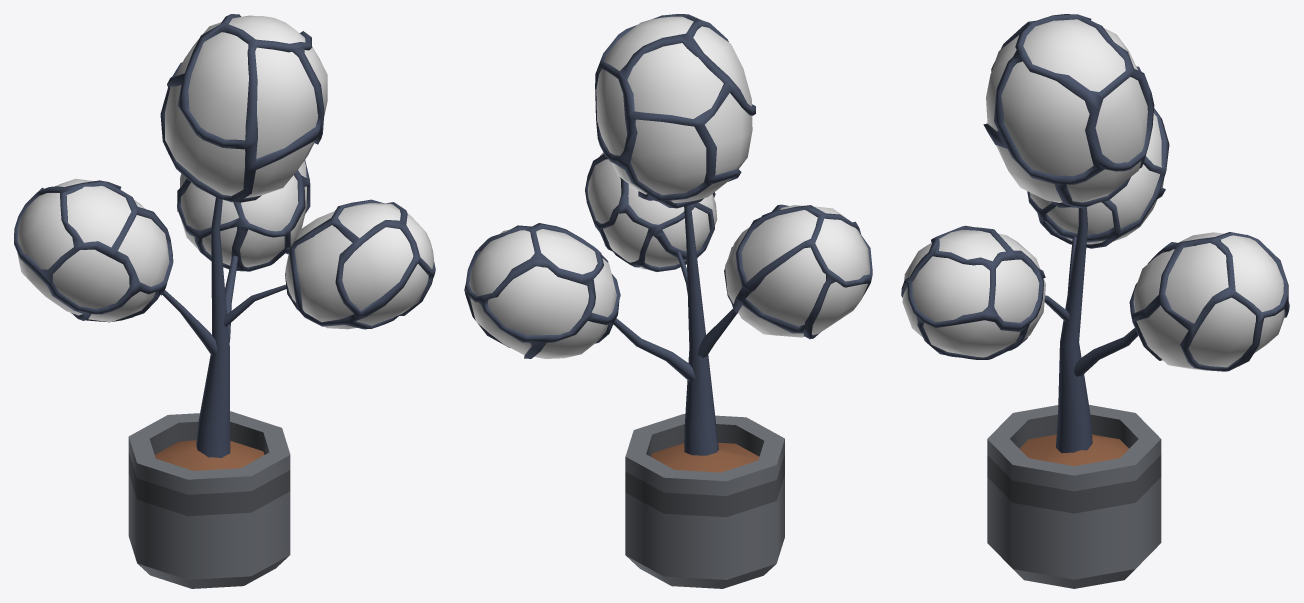
File: Plant9.glb
3 renders of one model, left to right at view 1: azimuth 30°, elevation 25°; view 2: azimuth 150°, elevation 25°; view 3: azimuth 270°, elevation 25°, orthographic. The views are drawn at different scales.
Parts seen in each view (by area): view 1: Plant9; view 2: Plant9; view 3: Plant9.
Boxes of the visible parts, x1=… form: Plant9: x1=14, y1=14, x2=435, y2=588; Plant9: x1=464, y1=14, x2=872, y2=588; Plant9: x1=901, y1=14, x2=1289, y2=588.
Bounding box in the file's own units: 0.8993 × 1.34 × 0.8547.
2 materials, 1 textured.
